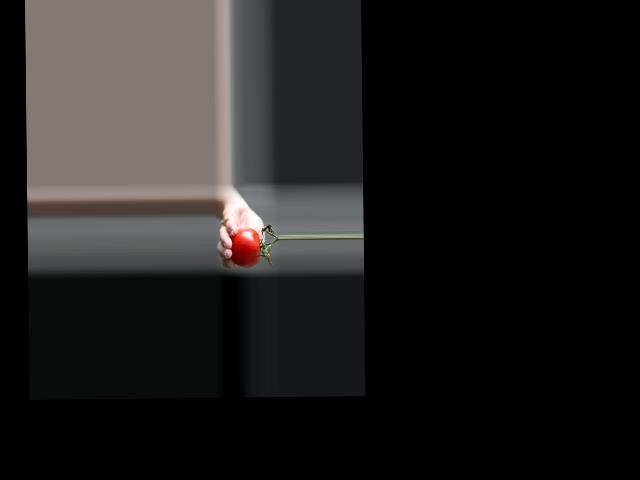tomato: (230, 227, 261, 267)
